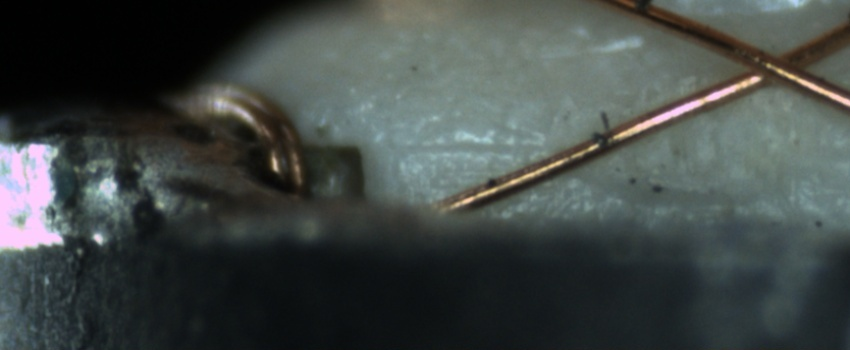CL: (709, 29, 838, 98)
DL: (401, 112, 552, 176)
TE: (186, 76, 328, 210)
